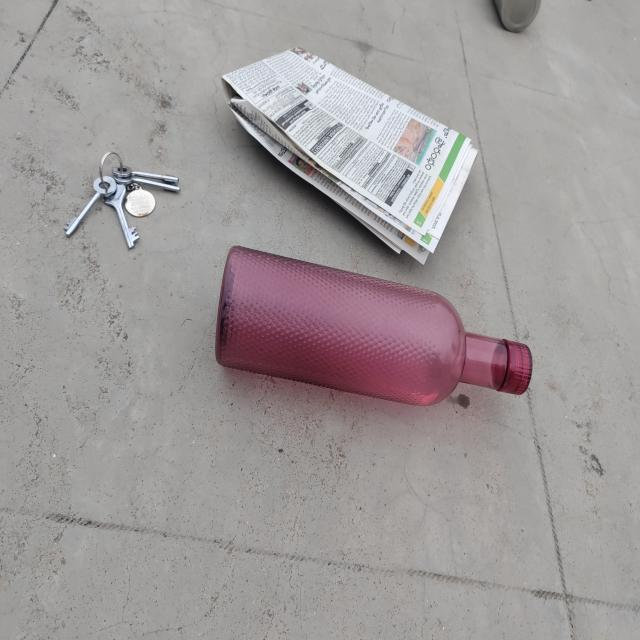metal: (60, 144, 182, 250)
paper: (224, 48, 478, 259)
plastic: (216, 243, 532, 409)
